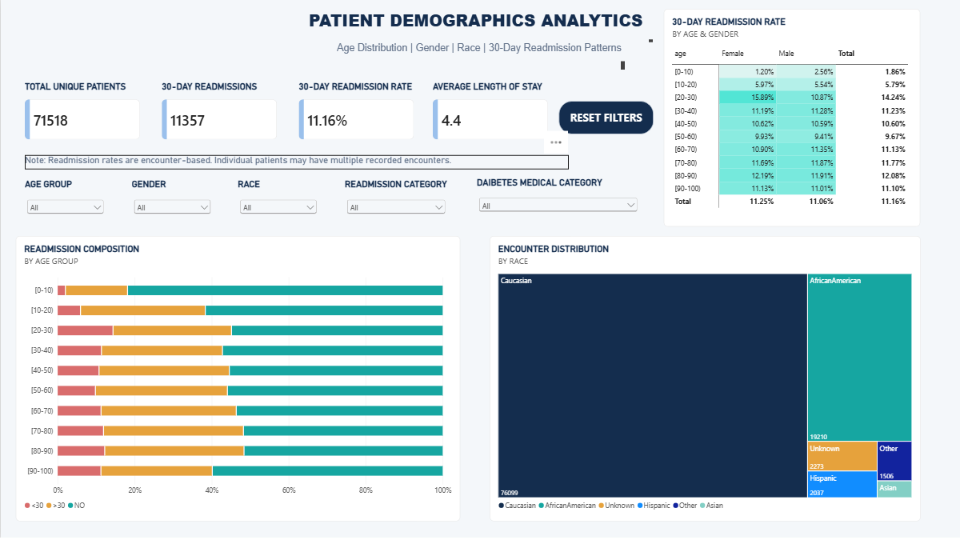

The dashboard page shown, as its layout file describes it:
{"tool":"powerbi","page":{"name":"02. Patient Demographics","canvas":[1920,1080],"ordinal":1},"visuals":[{"type":"textbox","title":"PATIENT DEMOGRAPHICS ANALYTICS","box":[616.6,18.4,688.3,66.3],"z":0},{"type":"textbox","title":"Age Distribution | Gender | Race | 30-Day Readmission Patterns","box":[671.8,84.7,576.1,55.2],"z":1000},{"type":"cardVisual","title":"TOTAL UNIQUE PATIENTS","fields":{"Data":["Measure.Unique Patients"]},"box":[47.9,162,230.1,117.8],"z":2000},{"type":"cardVisual","title":"30-DAY READMISSIONS","fields":{"Data":["Measure.30-Day Readmissions"]},"box":[322.1,162,230.1,117.8],"z":3000},{"type":"cardVisual","title":"30-DAY READMISSION RATE","fields":{"Data":["Measure.30-Day Readmission Rate"]},"box":[596.3,162,230.1,117.8],"z":4000},{"type":"cardVisual","title":"AVERAGE LENGTH OF STAY","fields":{"Data":["Measure.Average Length of Stay"]},"box":[863.2,162,230.1,117.8],"z":5000},{"type":"hundredPercentStackedBarChart","title":"READMISSION COMPOSITION ","fields":{"Category":["Fact_Encounters.age"],"Series":["Fact_Encounters.readmitted"],"Y":["CountNonNull(Fact_Encounters.encounter_id)"]},"box":[29.4,471.2,889,570.6],"z":6000},{"type":"treemap","title":"ENCOUNTER DISTRIBUTION ","fields":{"Group":["Fact_Encounters.race"],"Values":["CountNonNull(Fact_Encounters.encounter_id)"]},"box":[978,472,861.4,570.6],"z":7000},{"type":"pivotTable","title":"30-DAY READMISSION RATE ","fields":{"Columns":["Fact_Encounters.gender"],"Rows":["Fact_Encounters.age"],"Values":["Measure.30-Day Readmission Rate"]},"box":[1325,17.5,512.5,435],"z":8000},{"type":"slicer","title":"AGE GROUP","fields":{"Values":["Fact_Encounters.age"]},"box":[48,358,162.7,83.3],"z":9000},{"type":"slicer","title":"GENDER","fields":{"Values":["Fact_Encounters.gender"]},"box":[262,358,162.7,83.3],"z":10000},{"type":"slicer","title":"RACE","fields":{"Values":["Fact_Encounters.race"]},"box":[474,358,162.7,83.3],"z":11000},{"type":"slicer","title":"READMISSION CATEGORY","fields":{"Values":["Fact_Encounters.readmitted"]},"box":[688,358,206.1,82.8],"z":12000},{"type":"actionButton","title":"RESET FILTERS","box":[1115.3,202.5,189.6,66.3],"z":13000},{"type":"slicer","title":"DAIBETES MEDICAL CATEGORY","fields":{"Values":["Fact_Encounters.diabetesMed"]},"box":[952,354,326,92],"z":14000},{"type":"textbox","title":"Note: Readmission rates are encounter-based. Individual patients may have multiple recorded encounters.","box":[48,310,1088,30],"z":15000}]}

Visuals, with their boxes in screenshot pixels (x1, y1, x2, y2), scaled from the page's 1920x1080 canvas onto the 960x538 screenshot:
"PATIENT DEMOGRAPHICS ANALYTICS" textbox: <bbox>308, 9, 652, 42</bbox>
"Age Distribution | Gender | Race | 30-Day Readmission Patterns" textbox: <bbox>336, 42, 624, 70</bbox>
"TOTAL UNIQUE PATIENTS" cardVisual: <bbox>24, 81, 139, 139</bbox>
"30-DAY READMISSIONS" cardVisual: <bbox>161, 81, 276, 139</bbox>
"30-DAY READMISSION RATE" cardVisual: <bbox>298, 81, 413, 139</bbox>
"AVERAGE LENGTH OF STAY" cardVisual: <bbox>432, 81, 547, 139</bbox>
"READMISSION COMPOSITION " hundredPercentStackedBarChart: <bbox>15, 235, 459, 519</bbox>
"ENCOUNTER DISTRIBUTION " treemap: <bbox>489, 235, 920, 519</bbox>
"30-DAY READMISSION RATE " pivotTable: <bbox>662, 9, 919, 225</bbox>
"AGE GROUP" slicer: <bbox>24, 178, 105, 220</bbox>
"GENDER" slicer: <bbox>131, 178, 212, 220</bbox>
"RACE" slicer: <bbox>237, 178, 318, 220</bbox>
"READMISSION CATEGORY" slicer: <bbox>344, 178, 447, 220</bbox>
"RESET FILTERS" actionButton: <bbox>558, 101, 652, 134</bbox>
"DAIBETES MEDICAL CATEGORY" slicer: <bbox>476, 176, 639, 222</bbox>
"Note: Readmission rates are encounter-based. Individual patients may have multiple recorded encounters." textbox: <bbox>24, 154, 568, 169</bbox>
